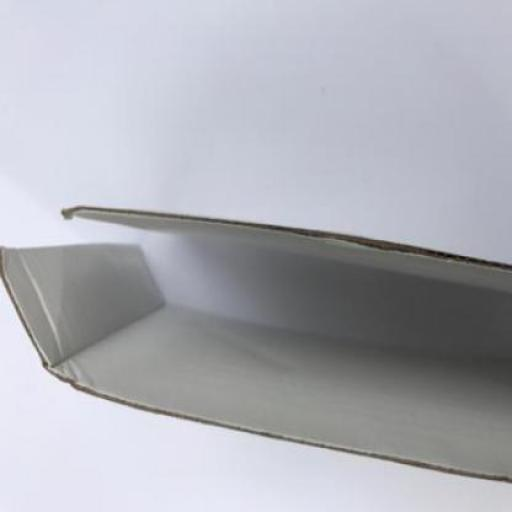cardboard: (0, 202, 511, 482)
